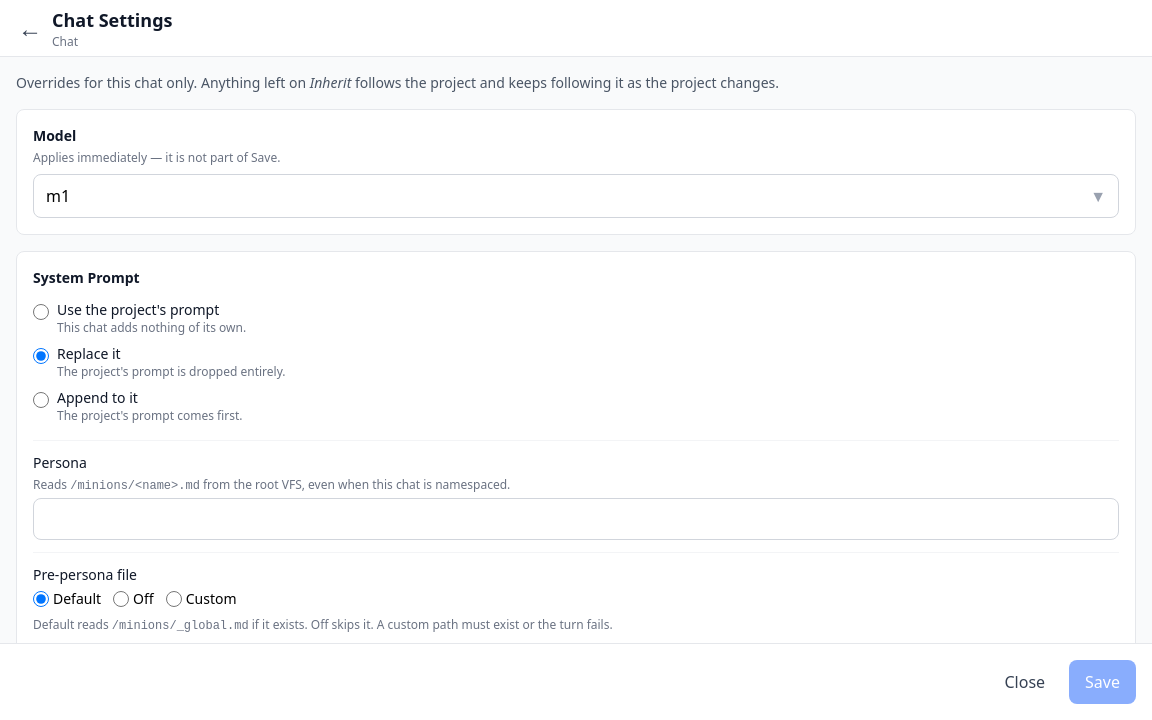
it: system prompt section › never auto-fills over a namespace the chat already had
Type "researcher" into the field labelled "Persona" at (576, 519), box x1=33 y1=498 x2=1119 y2=540
(page scrolled)
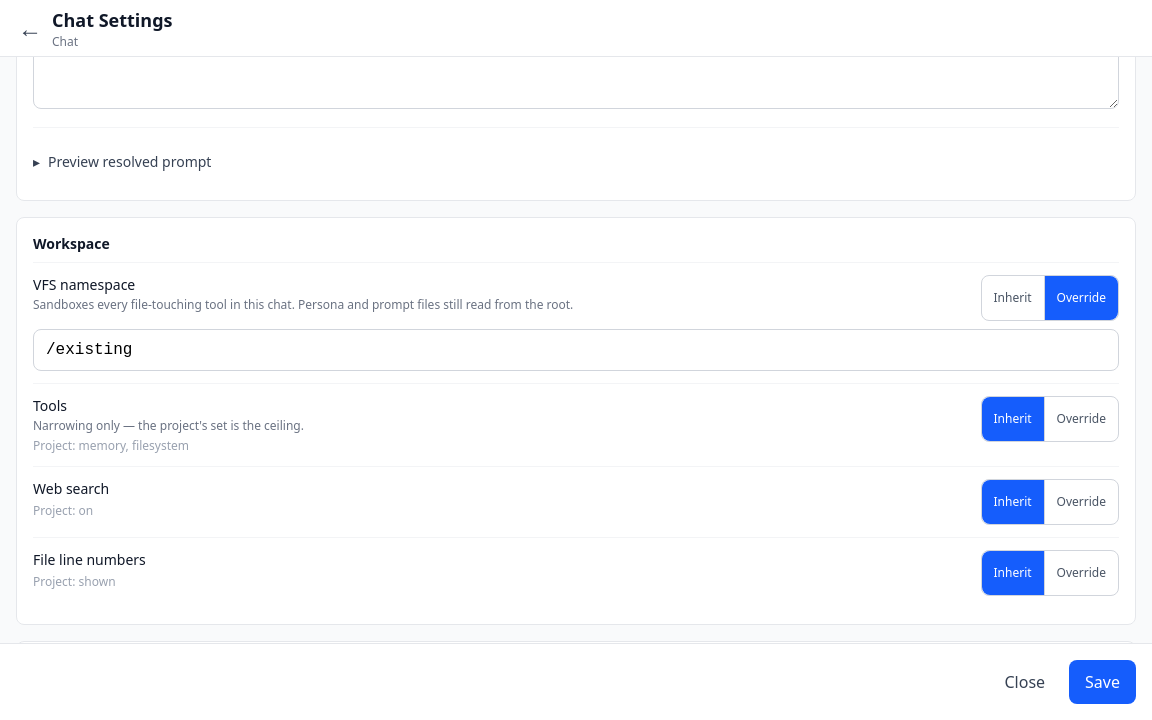
Expected: the field named "VFS namespace" holds "/existing", x1=33 y1=329 x2=1119 y2=371
